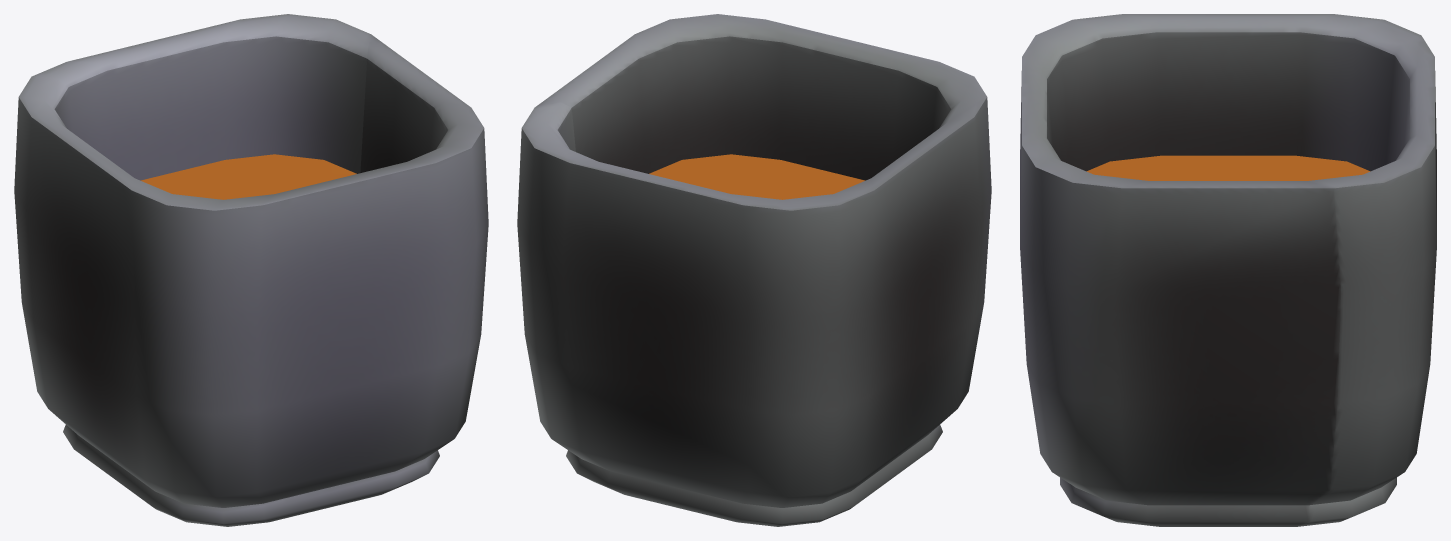
Rendered from whiskey-Glasses.fbx.
3 views of the same model, side by side, from view 1: azimuth 30°, elevation 25°; view 2: azimuth 150°, elevation 25°; view 3: azimuth 270°, elevation 25° (orthographic). The views are drawn at different scales.
Parts seen in each view (by area): view 1: whiskey-glass, whiskey-in-whiskeyglass; view 2: whiskey-glass, whiskey-in-whiskeyglass; view 3: whiskey-glass, whiskey-in-whiskeyglass.
Part boxes in pixels (bbox=[...]): whiskey-glass: bbox=[14, 14, 488, 526]; whiskey-in-whiskeyglass: bbox=[140, 154, 356, 199]; whiskey-glass: bbox=[517, 14, 991, 526]; whiskey-in-whiskeyglass: bbox=[649, 154, 865, 199]; whiskey-glass: bbox=[1020, 14, 1436, 526]; whiskey-in-whiskeyglass: bbox=[1086, 155, 1370, 180].
Bounding box in the file's own units: 0.4512 × 0.4301 × 0.4512.
